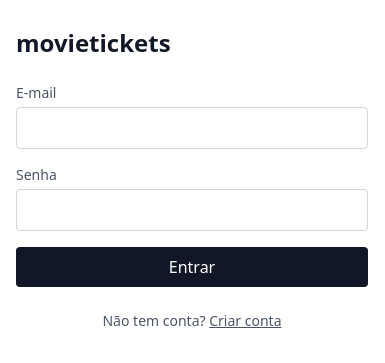
Scenario: LoginPage (integration) › should show an error message when the credentials are rejected
// WHEN the user submits the login form
In the field labelled "E-mail": [192, 128] box [16,107,368,149], type "user@test.com"
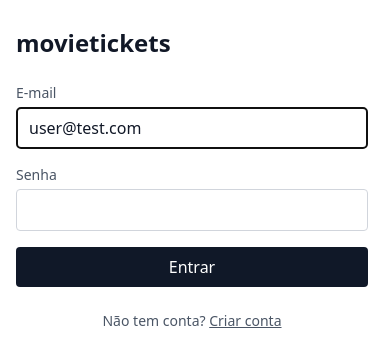
In the password field labelled "Senha": [192, 210] box [16,189,368,231], type "wrong-password"
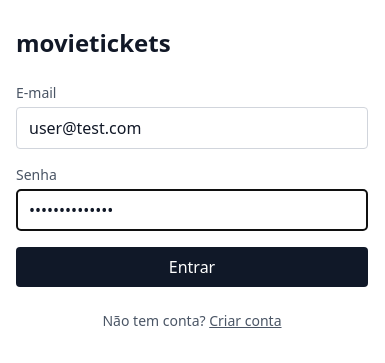
Click the button "Entrar": [192, 267] box [16,247,368,287]
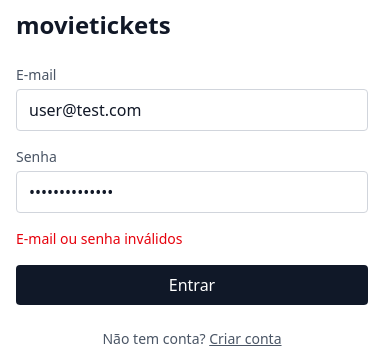
Expected: the message reads "E-mail ou senha inválidos", [16,229,182,248]
